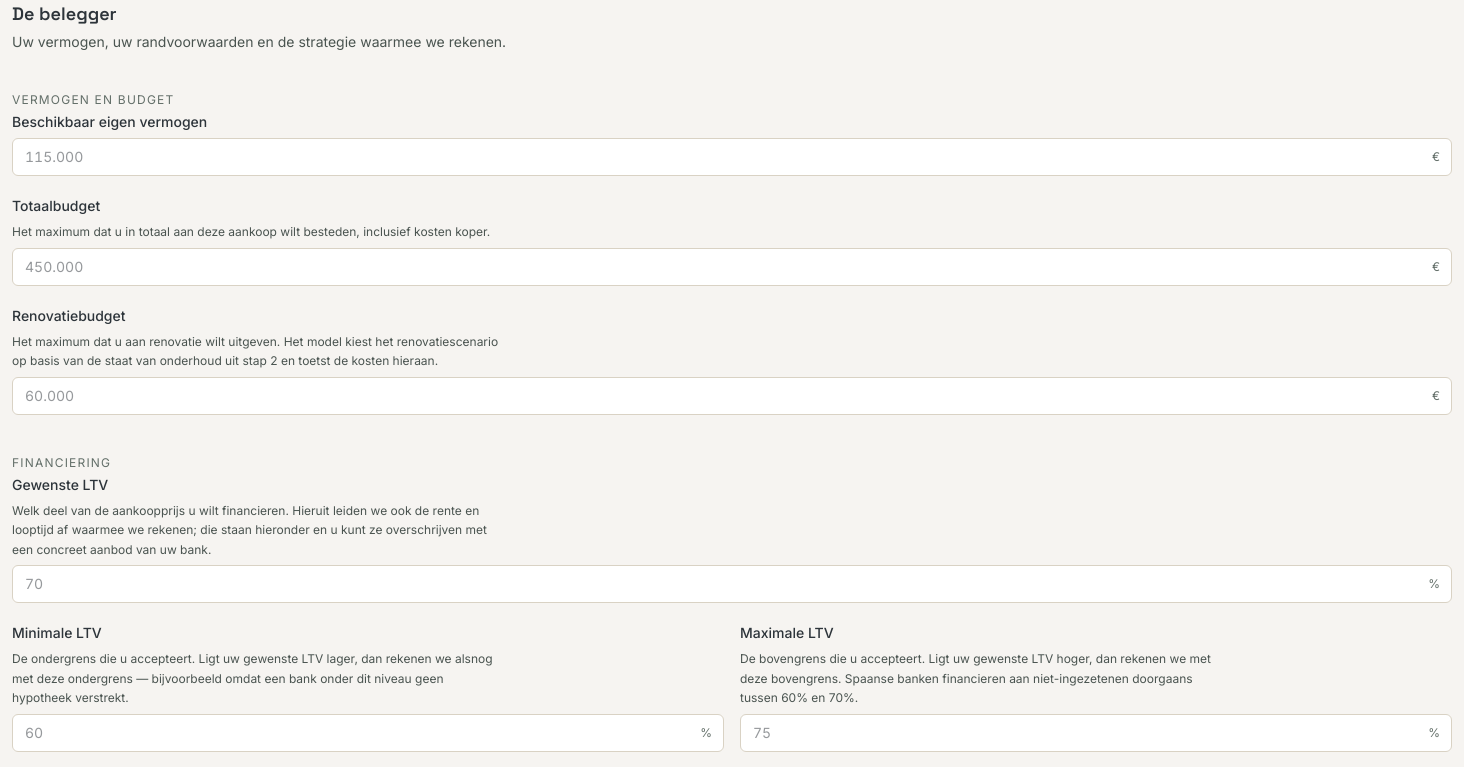
Test: BeleggerForm - the bank-offer override (fase C stap 3) › prefills nothing, but shows the derived figures as placeholders
Type "75" into the field labelled "Gewenste LTV".
click(732, 584); type("75")  # box x1=12 y1=565 x2=1452 y2=603
(page scrolled)
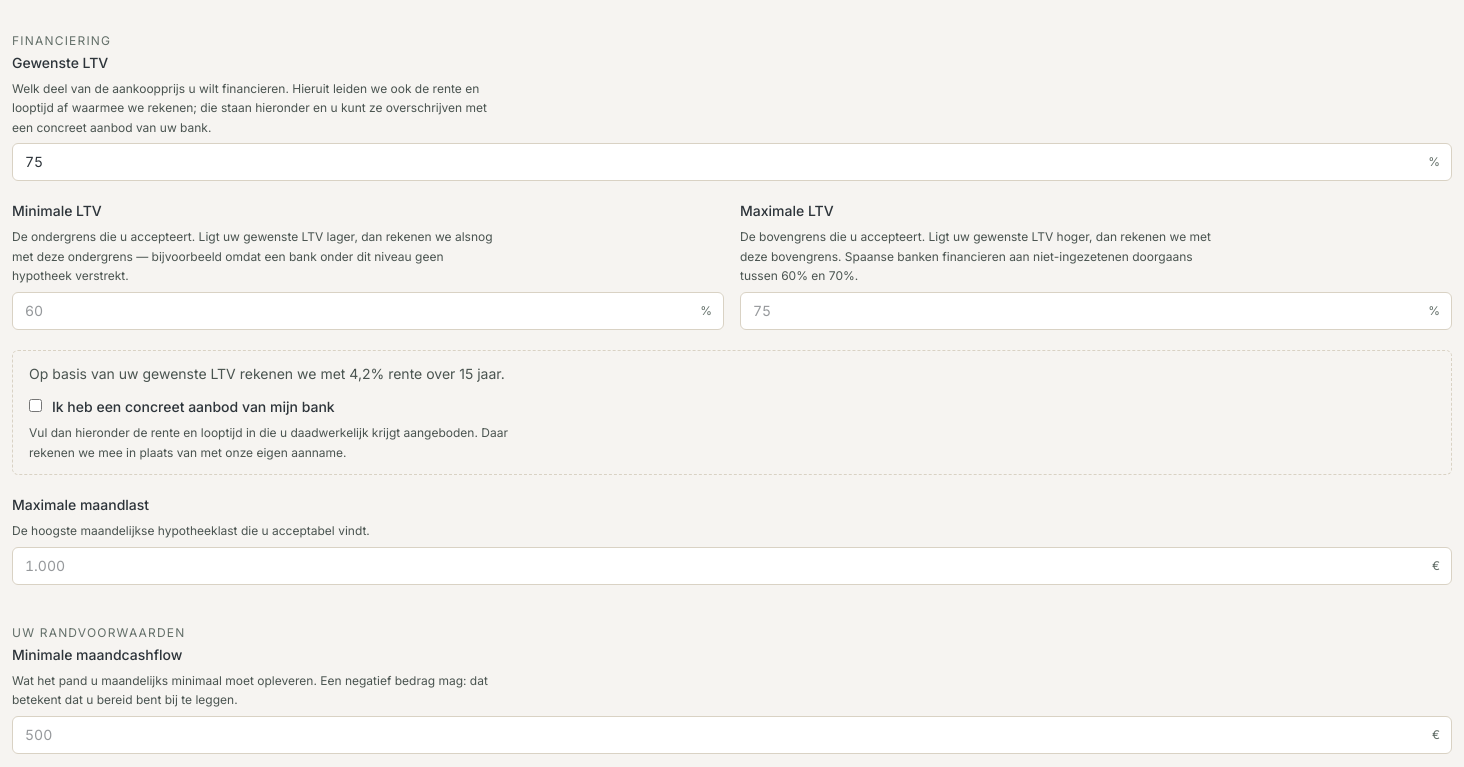
Click the checkbox labelled "Ik heb een concreet aanbod van mijn bank".
click(36, 406)  # box x1=29 y1=399 x2=42 y2=412
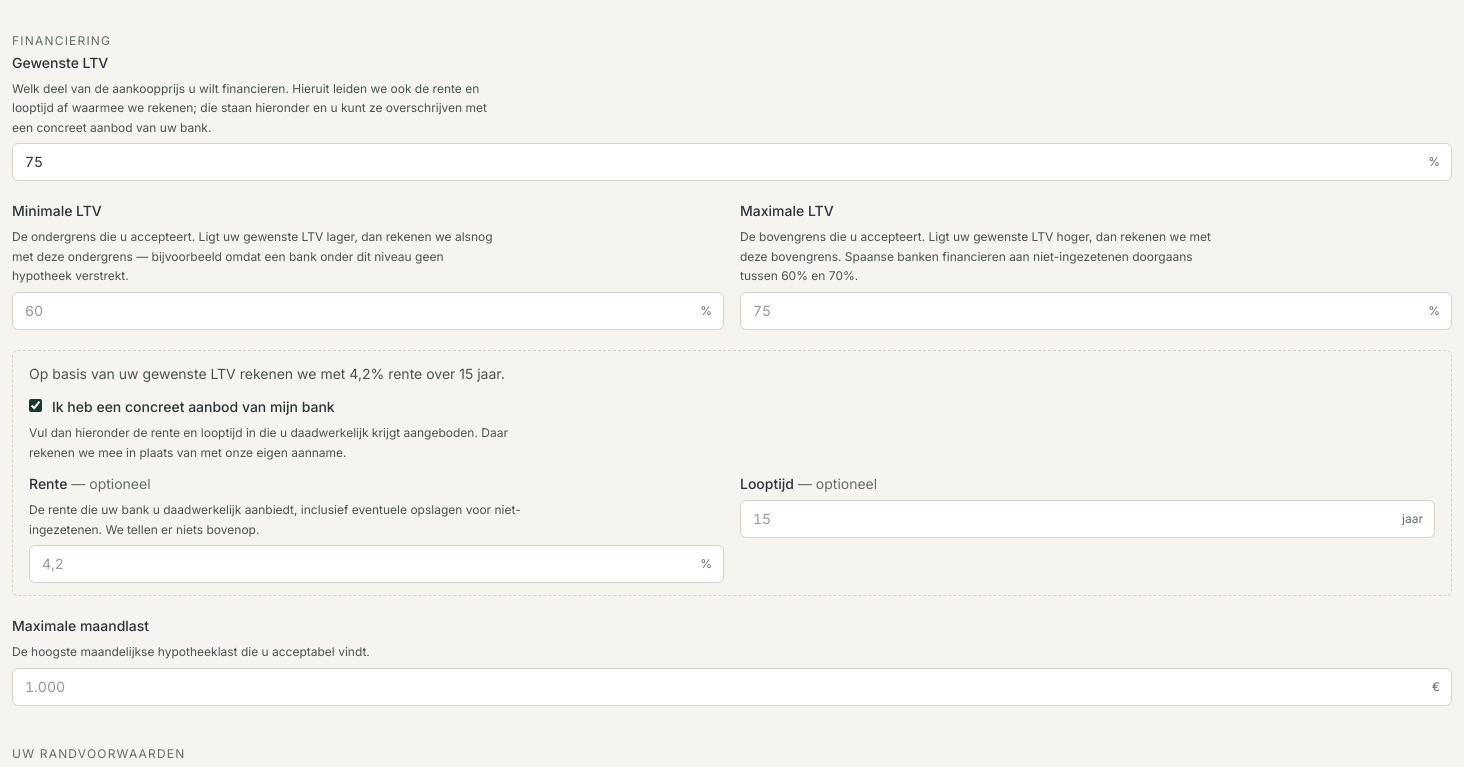
Expected: the field labelled "Rente — optioneel" is empty, x1=29 y1=545 x2=724 y2=583
Expected: the field labelled "Looptijd — optioneel" is empty, x1=740 y1=500 x2=1435 y2=538
